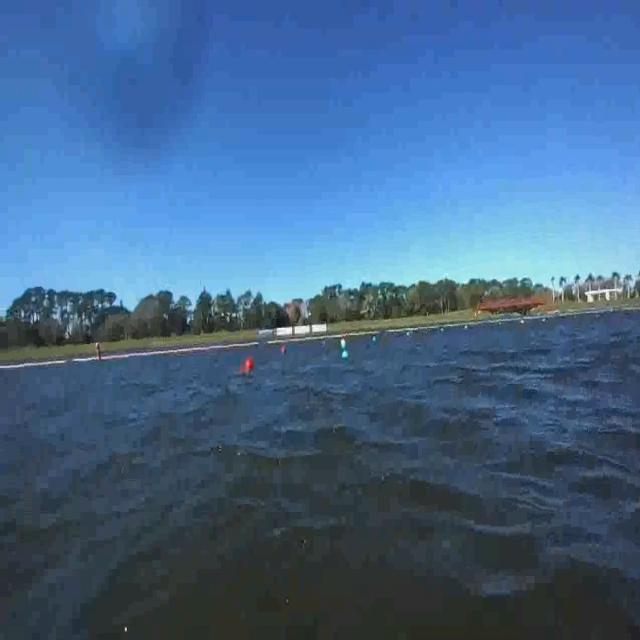green-buoy: (341, 348, 350, 361)
red-buoy: (245, 354, 256, 374)
